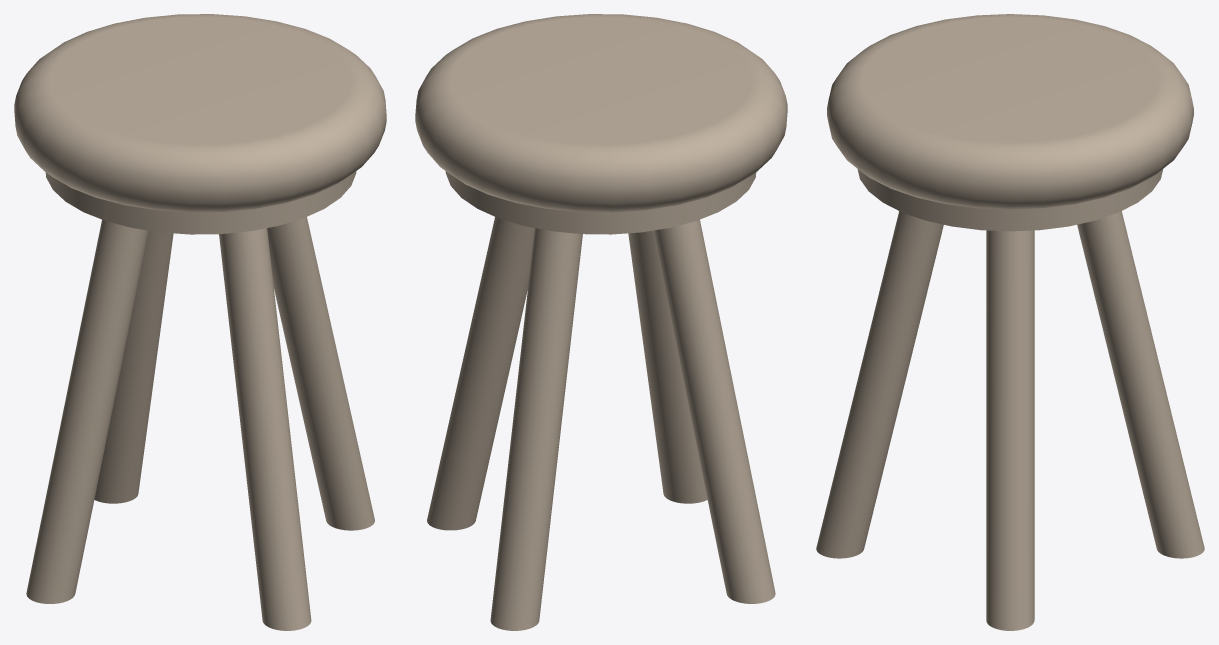
The model's file is Tabouret3_3.fbx.
3 renders of one model, left to right at view 1: azimuth 30°, elevation 25°; view 2: azimuth 150°, elevation 25°; view 3: azimuth 270°, elevation 25°, orthographic.
Parts seen in each view (by area): view 1: polySurface972, pCylinder1640, pCylinder1641; view 2: polySurface972, pCylinder1640, pCylinder1641; view 3: pCylinder1640, polySurface972, pCylinder1641.
Boxes of the visible parts, x1,y1,x2,y2 form: polySurface972: [26, 217, 374, 630]; pCylinder1640: [14, 14, 386, 212]; pCylinder1641: [45, 171, 356, 234]; polySurface972: [427, 217, 775, 630]; pCylinder1640: [415, 14, 787, 212]; pCylinder1641: [445, 171, 756, 234]; pCylinder1640: [827, 14, 1193, 209]; polySurface972: [816, 211, 1204, 630]; pCylinder1641: [857, 169, 1162, 231].
Bounding box in the file's own units: 39.54 × 52.62 × 39.53.
